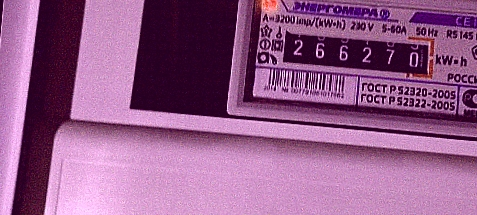0: (406, 48, 419, 69)
2: (290, 36, 305, 58), (359, 44, 373, 65)
6: (312, 40, 326, 61), (336, 42, 350, 62)
7: (382, 46, 396, 66)
screen: (268, 17, 445, 88)
